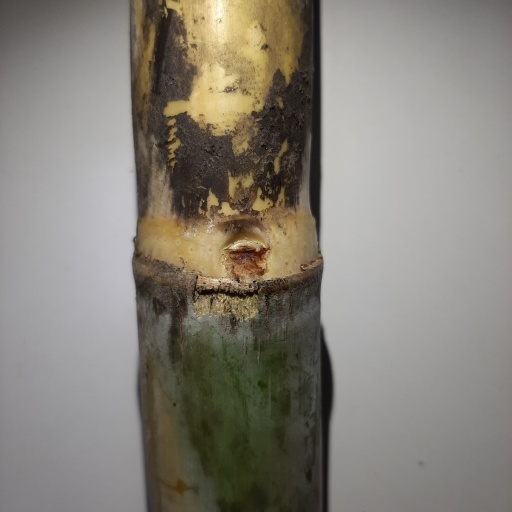Damage_Bud: (225, 228, 269, 280)
